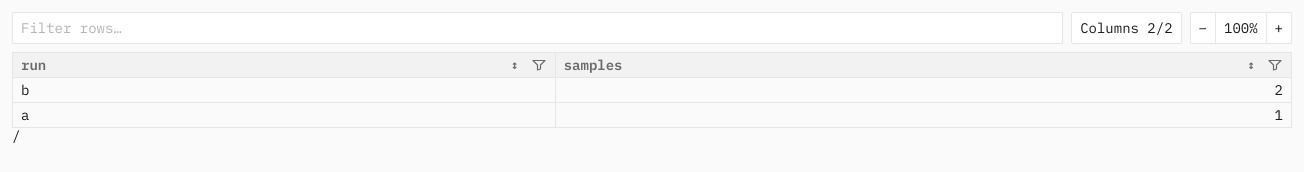
TableView › cycles sort direction and supports Shift multi-sort
Click the button titled "Sort by run; Shift-click adds a sort key" in the row of "run": click(515, 65) [503,53,527,77]
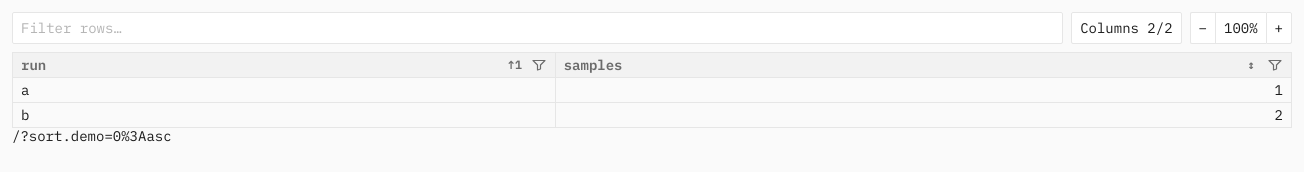
Expected: the row "a 1" is shown, [12,78,1292,103]
Click the button titled "Sort by samples; Shift-click adds a sort key": click(1251, 65) [1239,53,1263,77]
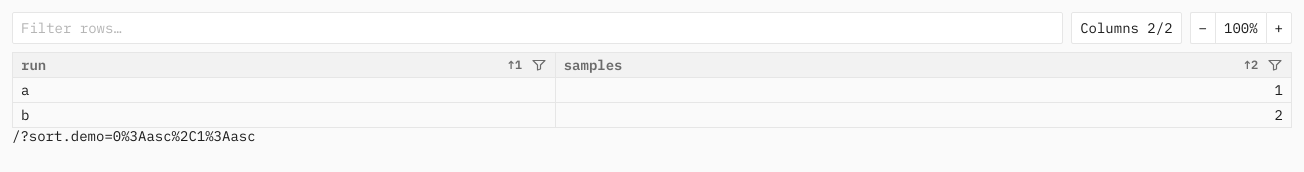
Expected: the text with test id "loc" shows "sort.demo=0%3Aasc%2C1%3Aasc", [12,127,256,145]
